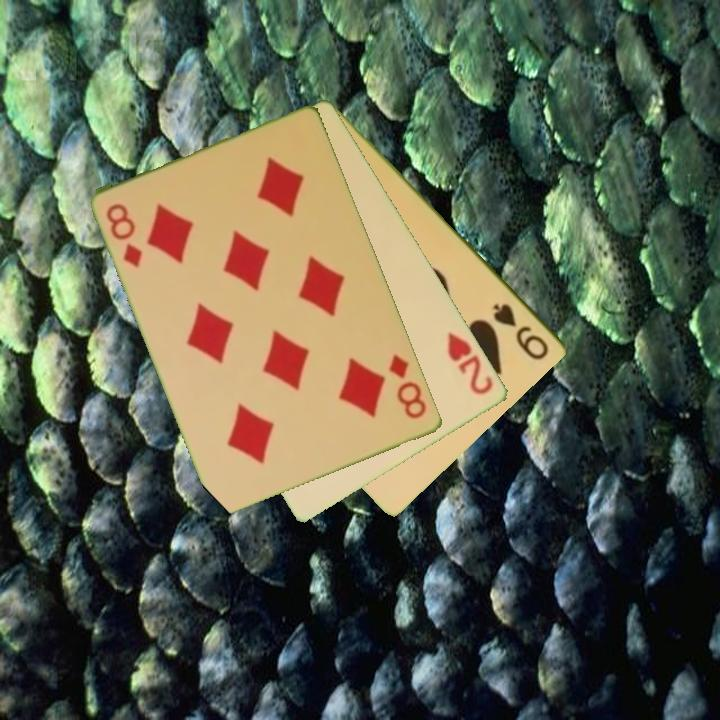2h: (444, 328, 497, 398)
8d: (386, 351, 430, 422), (103, 200, 146, 271)
9s: (490, 299, 553, 363)
